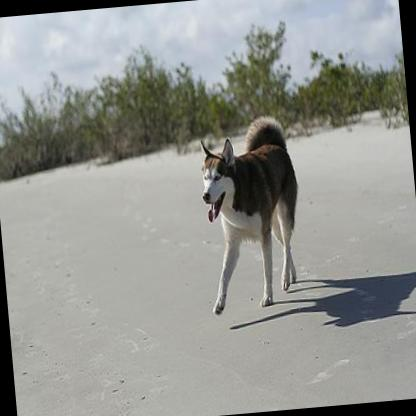Siberian_husky: (194, 112, 308, 318)
